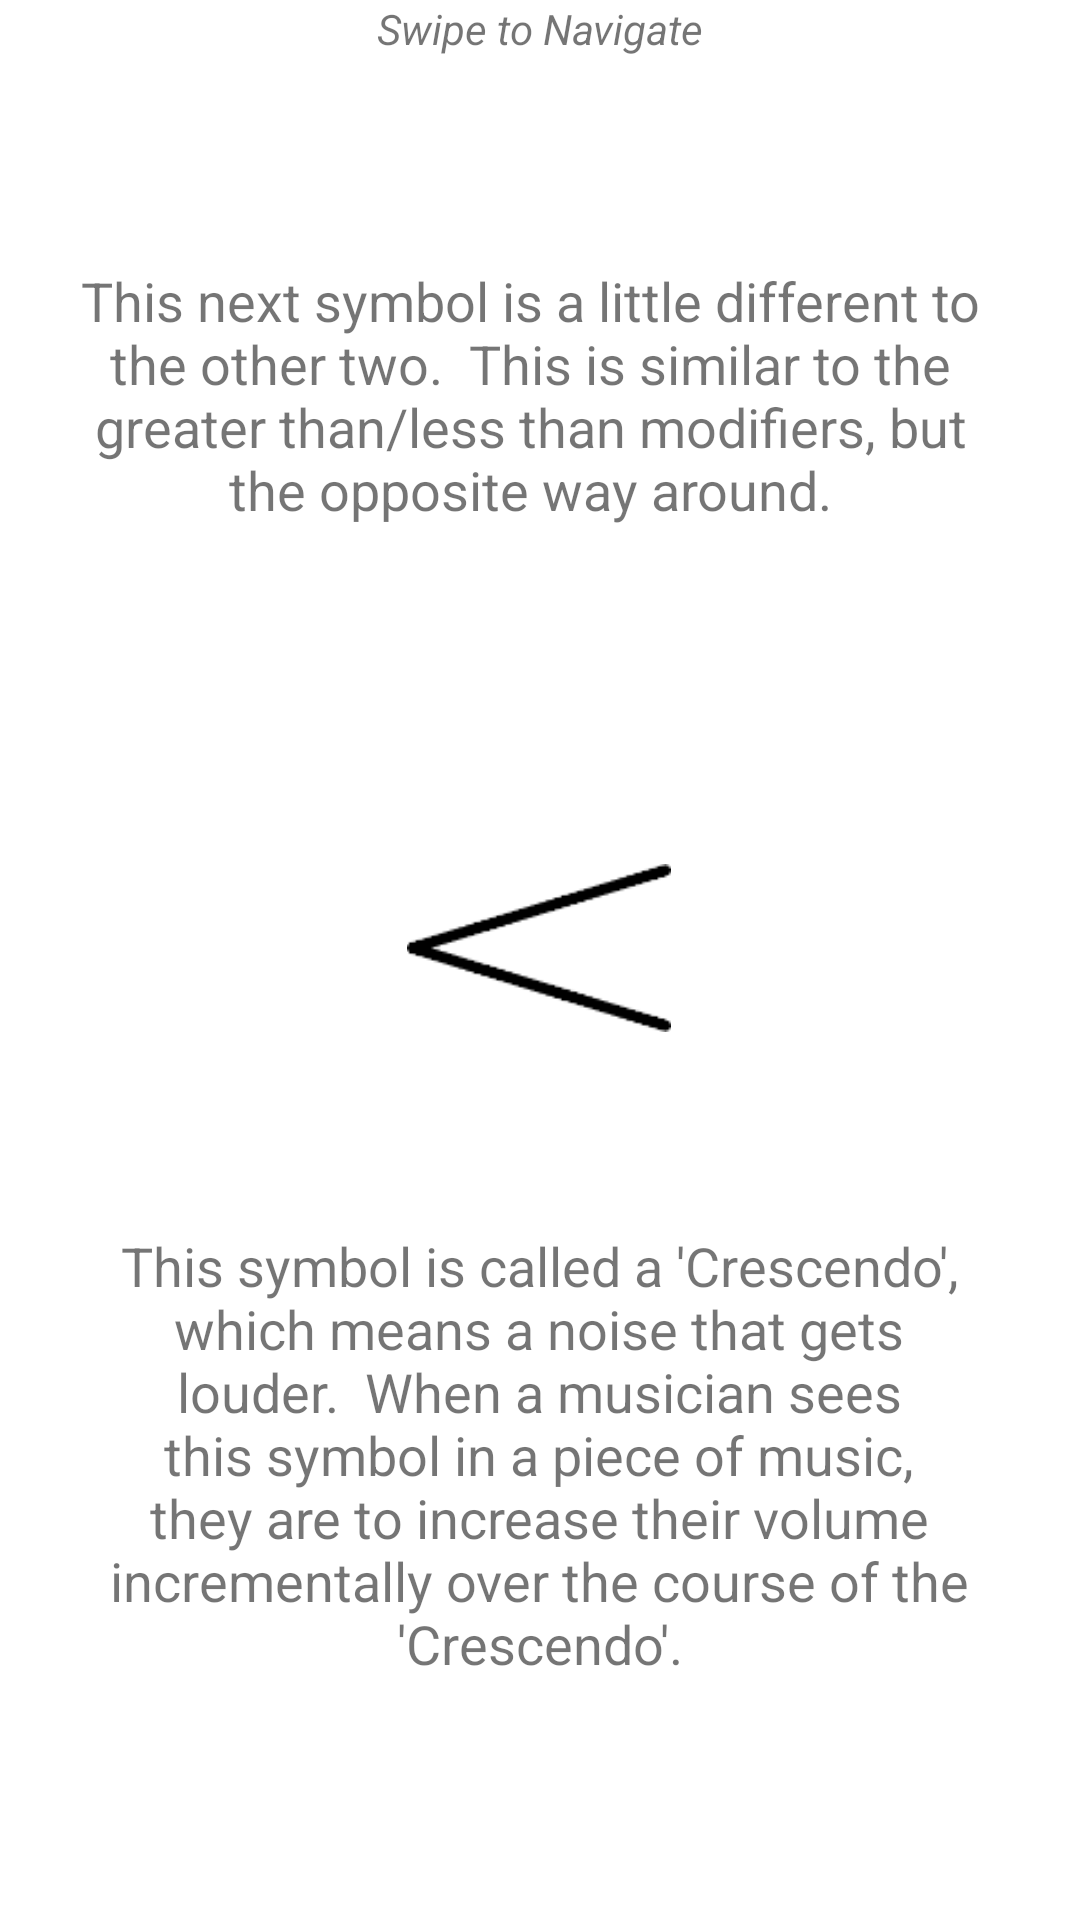

Named icons in this screenshot (1080w x 1920h) and their bounding boxes, (x1, y1, x2, y2):
crescendo dynamic marking: (407, 864, 671, 1032)
